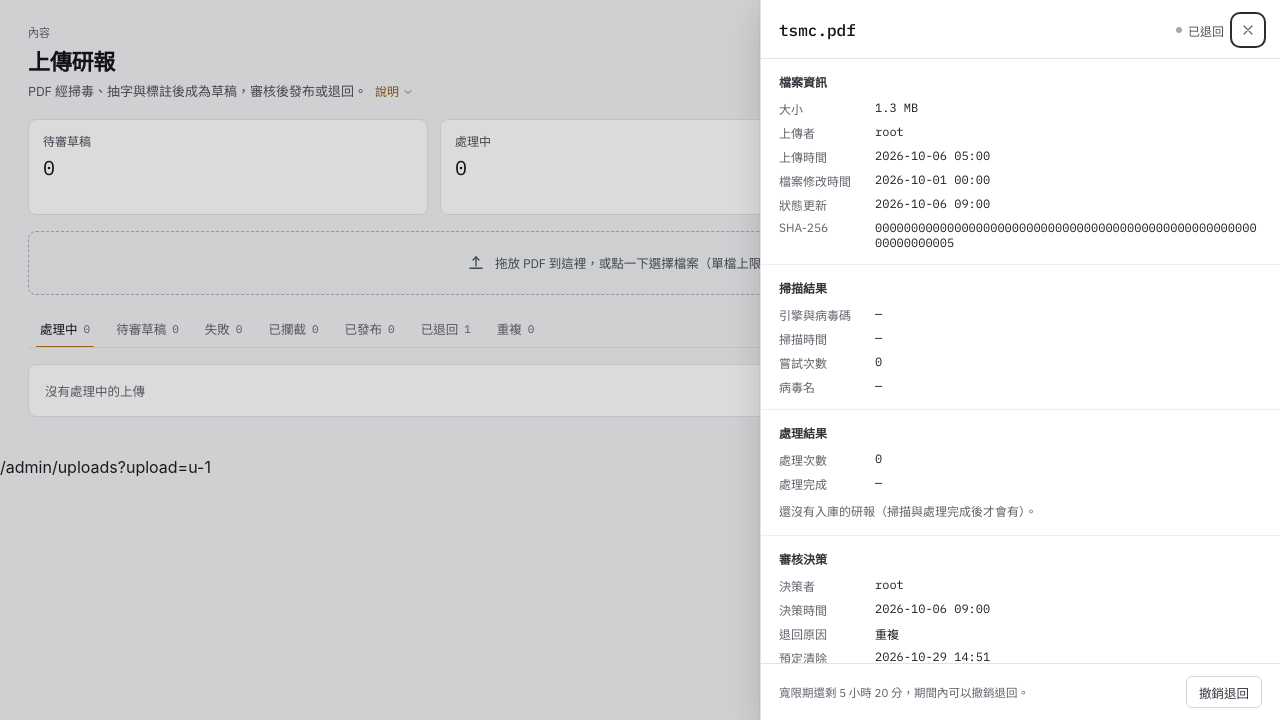
Test: 已退回：寬限期內可撤銷並顯示剩餘時間；審核決策列出原因
Expected: the text "寬限期還剩 5 小時 20 分，期間內可以撤銷退回。" is shown, [779,685,1029,700]
Expected: the text "重複" is shown, [875,627,899,642]
Click the button "撤銷退回" at point(1224, 692), box [1186,676,1262,708]
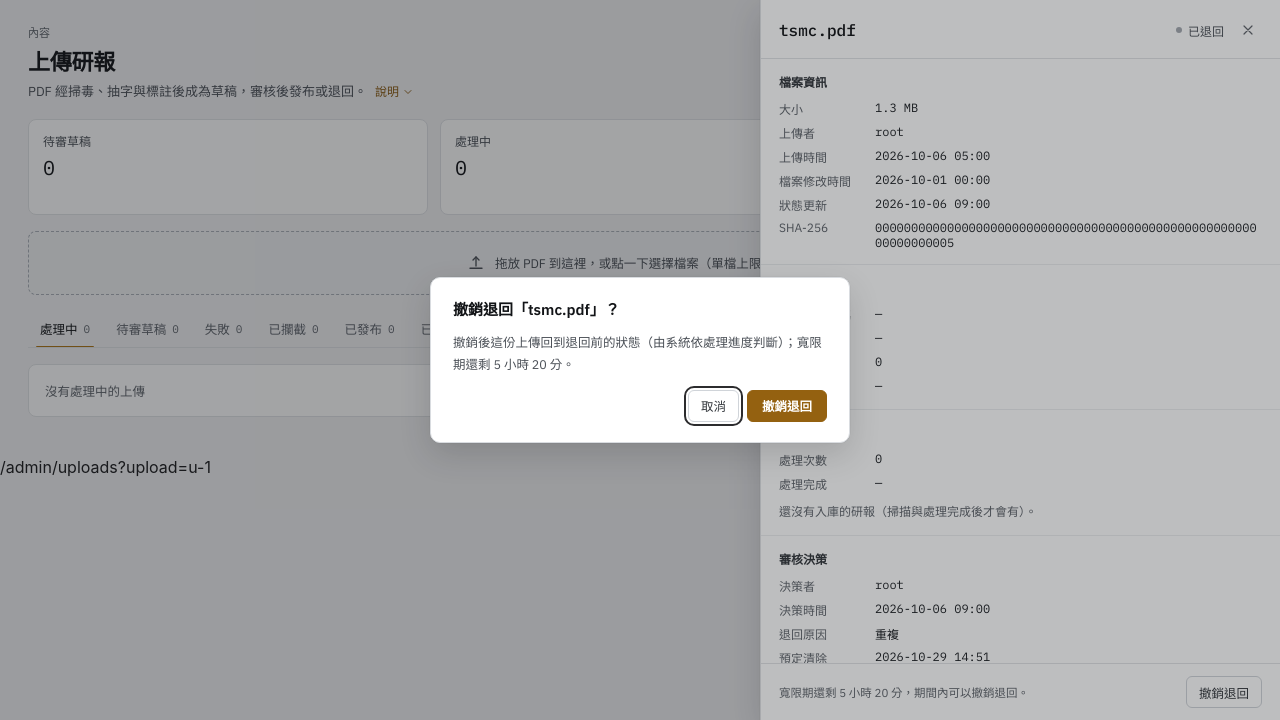
Now the text "撤銷後這份上傳回到退回前的狀態（由系統依處理進度判斷）；寬限期還剩 5 小時 20 分。" is shown, box [453,332,827,375]
Click the button "撤銷退回" at point(787, 406), box [747,390,827,422]
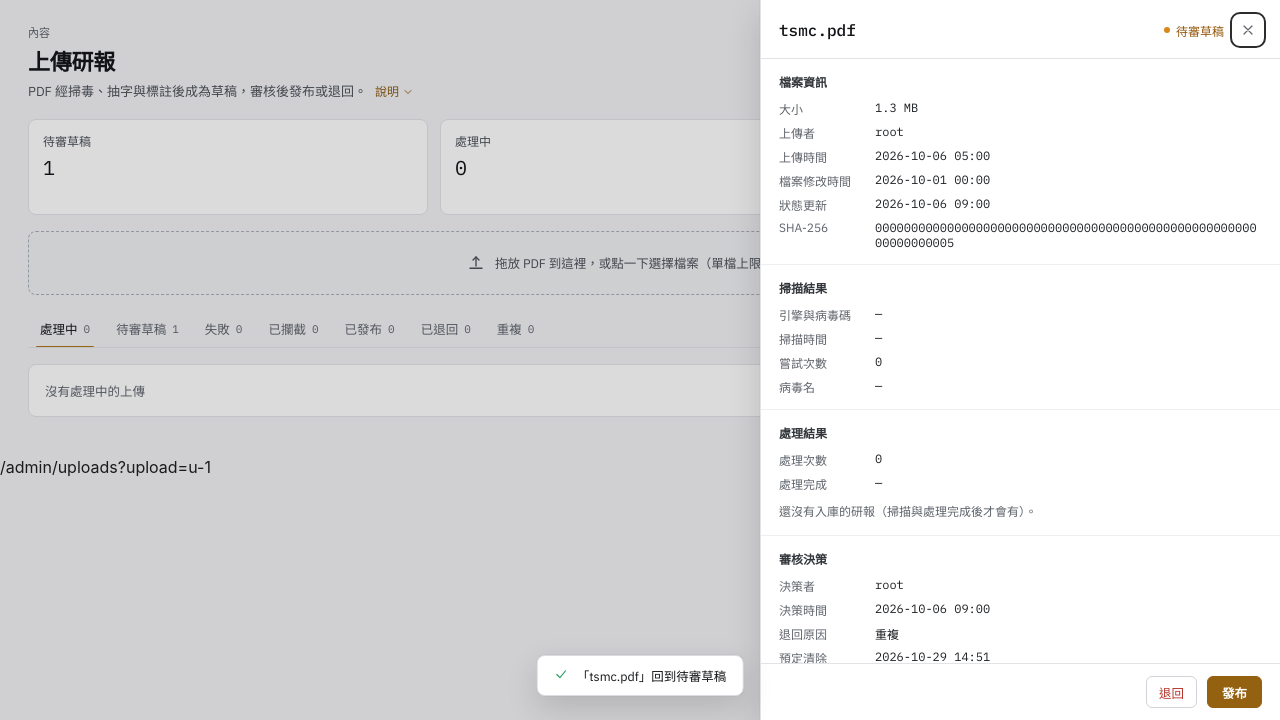
Now the text "「tsmc.pdf」回到待審草稿" is shown, box [537,655,743,696]
